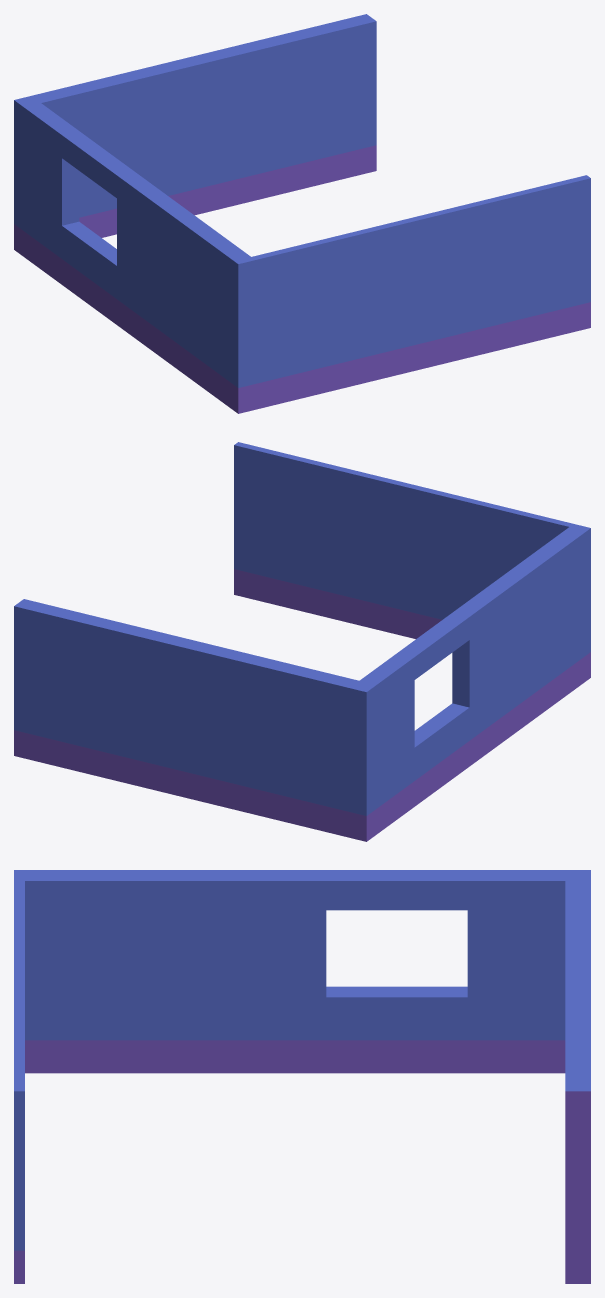
The model's file is parcaliduvar 1.fbx.
3 renders of one model, top to bottom at view 1: azimuth 30°, elevation 25°; view 2: azimuth 150°, elevation 25°; view 3: azimuth 270°, elevation 25°, orthographic. The views are drawn at different scales.
Parts seen in each view (by area): view 1: yatakodasi_duvar.004, yatakodasi_duvar.005, yatakodasi_duvar; view 2: yatakodasi_duvar.005, yatakodasi_duvar.004, yatakodasi_duvar; view 3: yatakodasi_duvar, yatakodasi_duvar.005, yatakodasi_duvar.004.
Boxes of the visible parts, box(x1,y1,x2,y2) form: yatakodasi_duvar.004: box(252, 175, 590, 409); yatakodasi_duvar.005: box(14, 14, 376, 256); yatakodasi_duvar: box(24, 103, 255, 413); yatakodasi_duvar.005: box(14, 599, 376, 841); yatakodasi_duvar.004: box(234, 442, 573, 638); yatakodasi_duvar: box(359, 524, 590, 834); yatakodasi_duvar: box(14, 870, 565, 1073); yatakodasi_duvar.005: box(565, 870, 590, 1283); yatakodasi_duvar.004: box(14, 881, 24, 1283).
Size of the model in its own units: 9.6 by 3.89 by 10.58.
